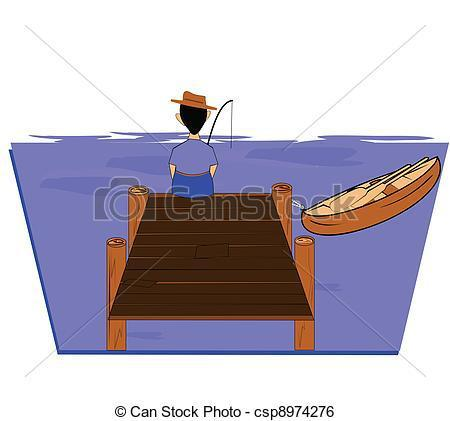boat: (296, 147, 445, 241)
person: (162, 85, 229, 196)
